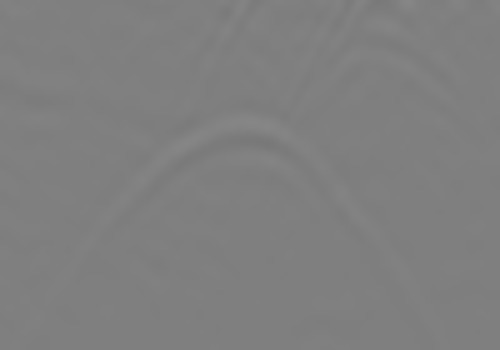hyperbola: (74, 106, 427, 308)
